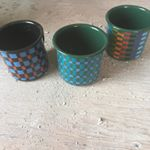cups: (49, 21, 110, 89), (1, 17, 50, 86), (103, 1, 150, 62)
